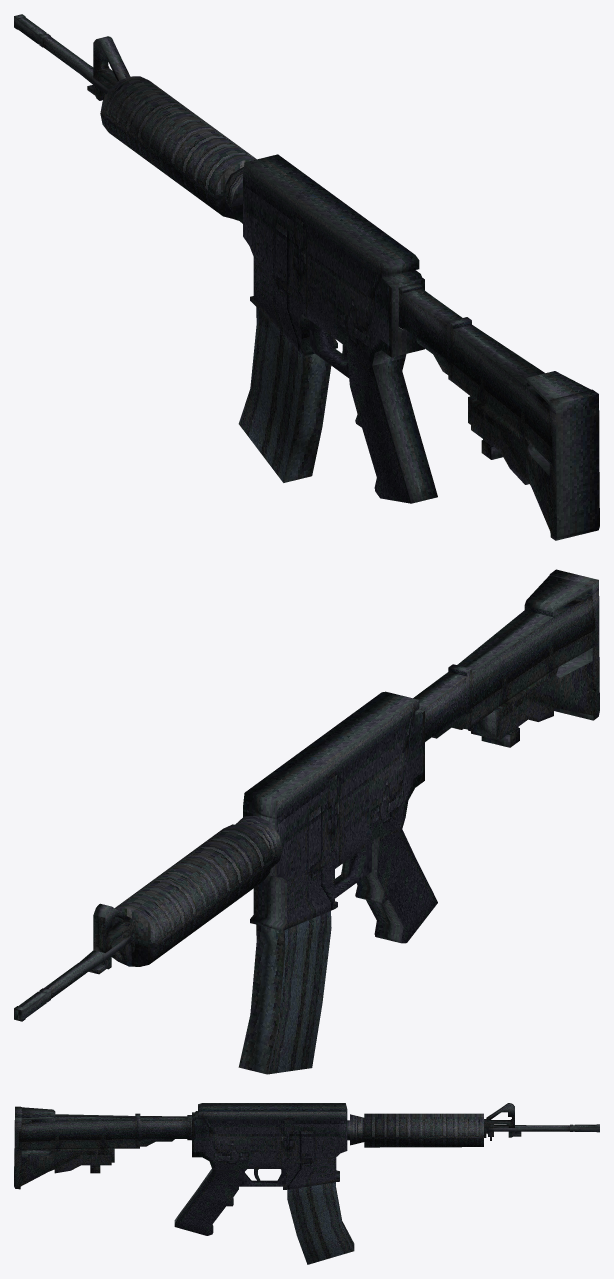
3 renders of one model, top to bottom at view 1: azimuth 30°, elevation 25°; view 2: azimuth 150°, elevation 25°; view 3: azimuth 270°, elevation 25°, orthographic. The views are drawn at different scales.
Visible parts, largest first — view 1: Main, Stock, Hand Guard, Magazine, Barrel, Trigger Guard; view 2: Main, Stock, Hand Guard, Magazine, Barrel, Trigger Guard; view 3: Main, Stock, Hand Guard, Magazine, Barrel, Trigger Guard.
Part boxes in pixels (x1,y1,x2,y2): Main: (243,154,437,503); Stock: (398,283,599,540); Hand Guard: (100,76,256,223); Magazine: (238,307,331,482); Barrel: (14,14,130,100); Trigger Guard: (309,320,349,378); Main: (243,691,437,943); Stock: (413,569,599,747); Hand Guard: (111,816,282,966); Magazine: (238,911,331,1074); Barrel: (14,903,134,1021); Trigger Guard: (335,842,371,898); Main: (174,1103,347,1235); Stock: (14,1106,191,1189); Hand Guard: (347,1113,483,1147); Magazine: (287,1182,354,1264); Barrel: (484,1103,599,1140); Trigger Guard: (239,1169,285,1186).
Size of the model in its own units: 0.24 by 1.2 by 4.06.
Materials: 1 (1 with a texture image).
